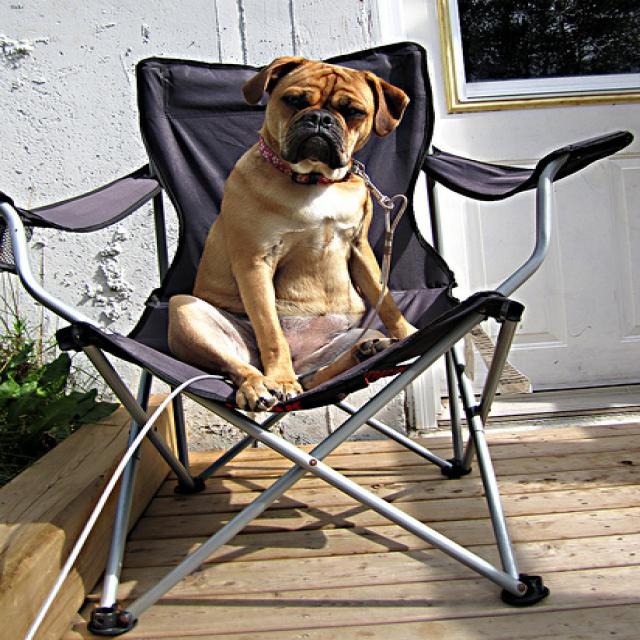dog-pug: (157, 50, 426, 413)
